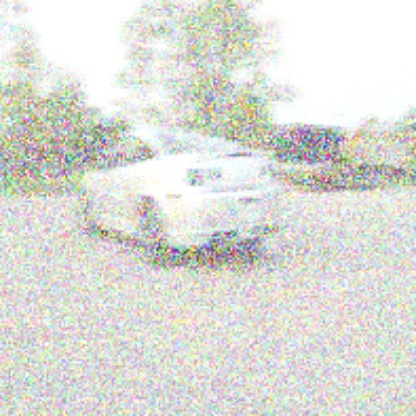Vehicle: (78, 126, 284, 269)
